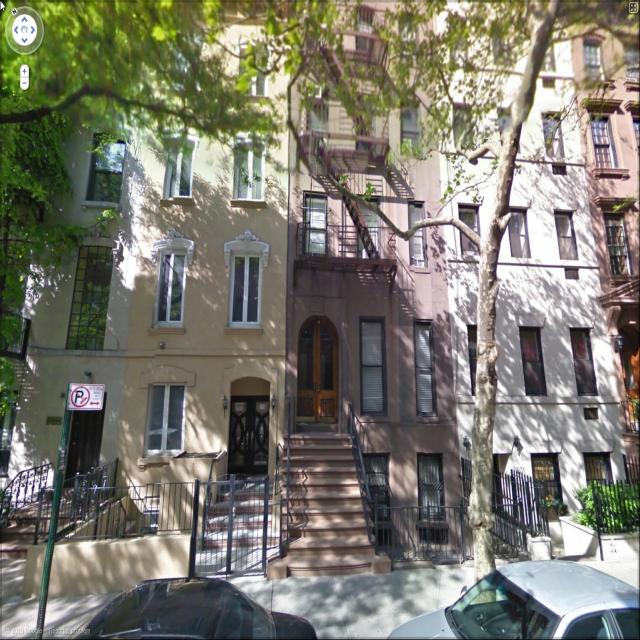b_1: (453, 128, 619, 523), (288, 115, 447, 526), (132, 128, 287, 536)
b_2: (115, 1, 288, 538), (288, 5, 451, 539), (458, 1, 584, 520), (1, 4, 120, 513), (577, 8, 639, 458)
